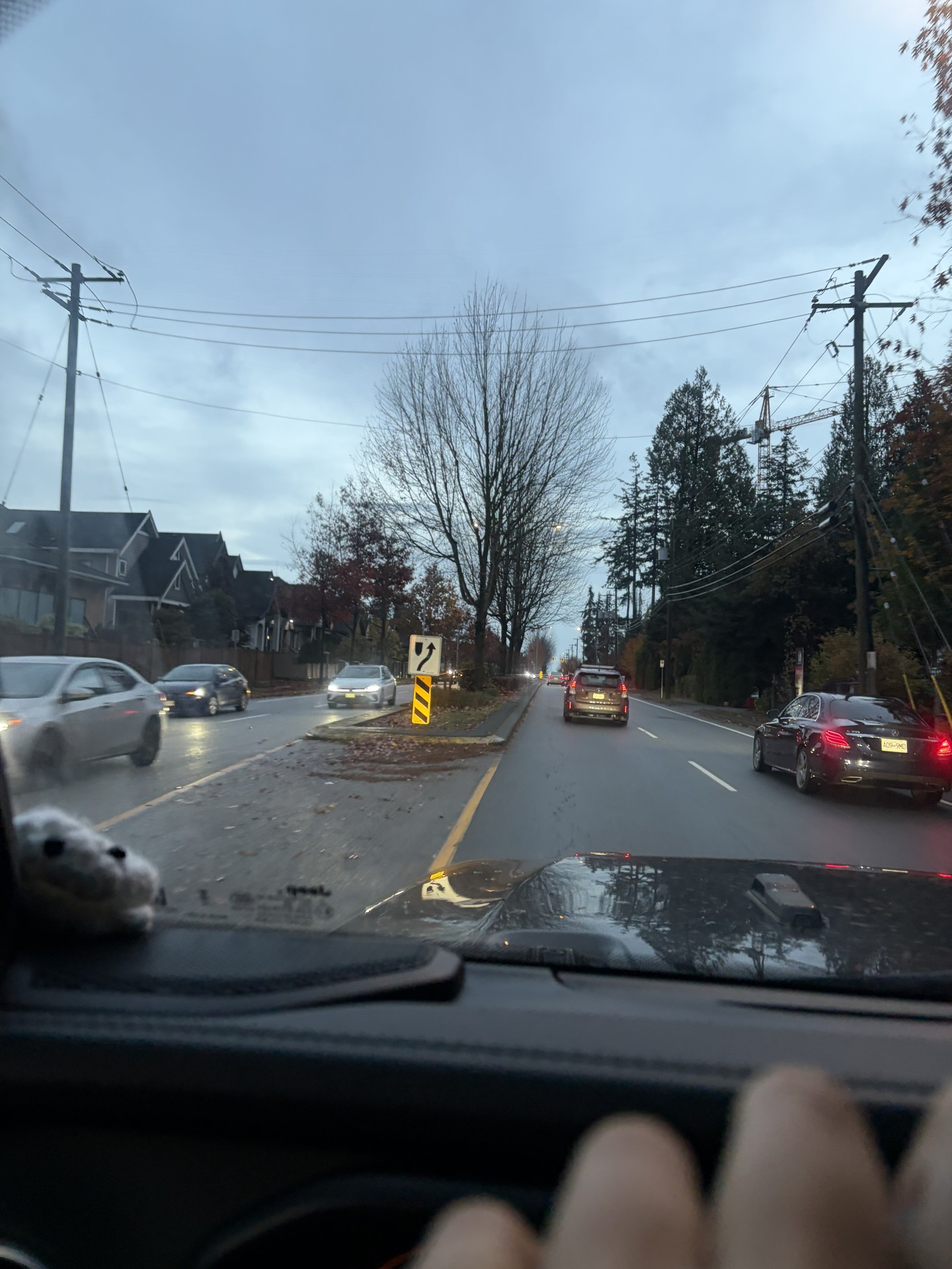keep_right: (388, 602, 463, 702)
